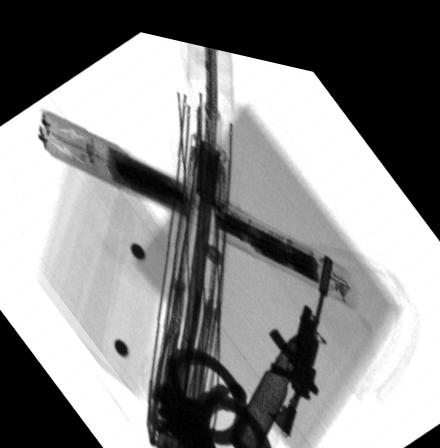Baton: (37, 106, 359, 292)
Bullet: (226, 301, 319, 448)
Gun: (268, 239, 332, 424)
HandCuffs: (148, 338, 274, 448)
